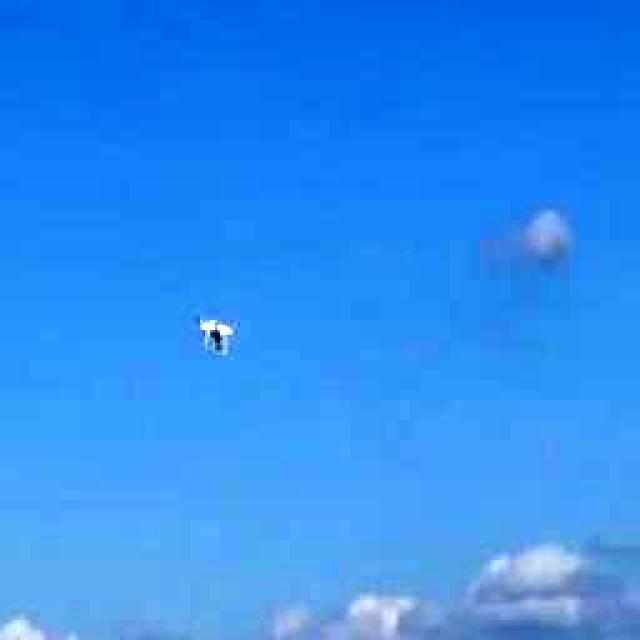bird: (184, 298, 254, 372)
